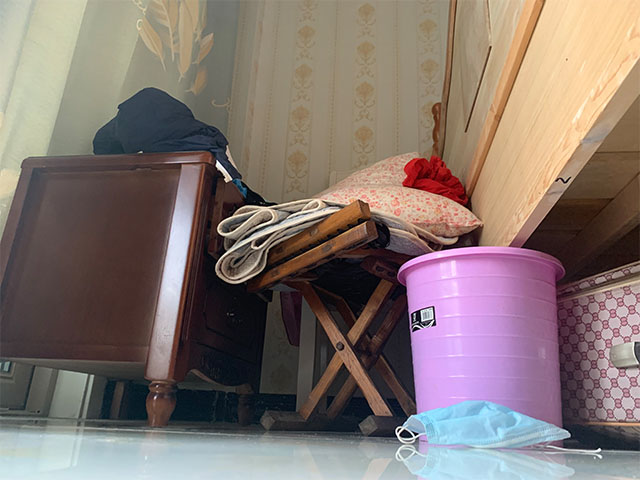cabinet: (1, 149, 274, 429)
stool: (257, 197, 416, 437)
trashcan: (394, 246, 566, 447)
